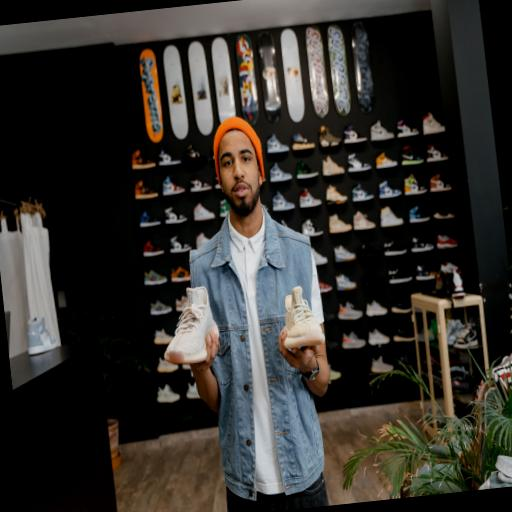shoe: (166, 287, 219, 363), (285, 287, 325, 348), (28, 318, 57, 355), (454, 326, 478, 349), (435, 266, 453, 296), (423, 113, 445, 135), (404, 174, 427, 195), (380, 206, 403, 227), (370, 120, 393, 141), (319, 125, 340, 147), (329, 214, 353, 233), (338, 302, 363, 320), (267, 134, 289, 154), (323, 156, 345, 176), (270, 163, 292, 183), (326, 185, 348, 205), (401, 145, 423, 165), (299, 189, 322, 208), (371, 355, 394, 374), (157, 384, 180, 403), (353, 211, 376, 230), (342, 331, 366, 349), (132, 151, 156, 169), (273, 192, 295, 211), (344, 125, 366, 144), (447, 319, 463, 345), (348, 154, 371, 172), (135, 181, 158, 199), (430, 173, 451, 192), (379, 181, 401, 199), (163, 177, 185, 195), (159, 148, 181, 166), (296, 162, 319, 179), (452, 268, 465, 298), (186, 145, 207, 163), (427, 144, 448, 162), (335, 245, 356, 263), (170, 236, 192, 253), (366, 300, 388, 317), (397, 120, 419, 137), (292, 134, 315, 150), (411, 237, 434, 253), (388, 269, 412, 284), (194, 204, 215, 221), (363, 272, 384, 289), (409, 206, 430, 223), (336, 274, 357, 291), (376, 152, 397, 169), (302, 219, 323, 236), (352, 184, 373, 201), (368, 329, 390, 345), (358, 244, 380, 260), (165, 208, 187, 224), (144, 270, 167, 285), (143, 241, 164, 257), (150, 300, 172, 315), (416, 265, 436, 281), (140, 211, 160, 227), (157, 358, 178, 373), (384, 242, 406, 256), (154, 329, 173, 345), (437, 234, 457, 249), (393, 329, 415, 342), (171, 267, 190, 282), (312, 248, 328, 265), (191, 179, 211, 192), (391, 302, 412, 314), (434, 207, 454, 219), (186, 382, 200, 399), (440, 261, 458, 274), (196, 232, 209, 249), (329, 364, 341, 382), (399, 355, 416, 367), (175, 296, 187, 312), (220, 199, 229, 217), (319, 281, 332, 293), (326, 340, 338, 351), (323, 312, 335, 322), (214, 176, 222, 189), (418, 329, 425, 342), (282, 220, 290, 228), (182, 364, 191, 371), (262, 204, 268, 211)
